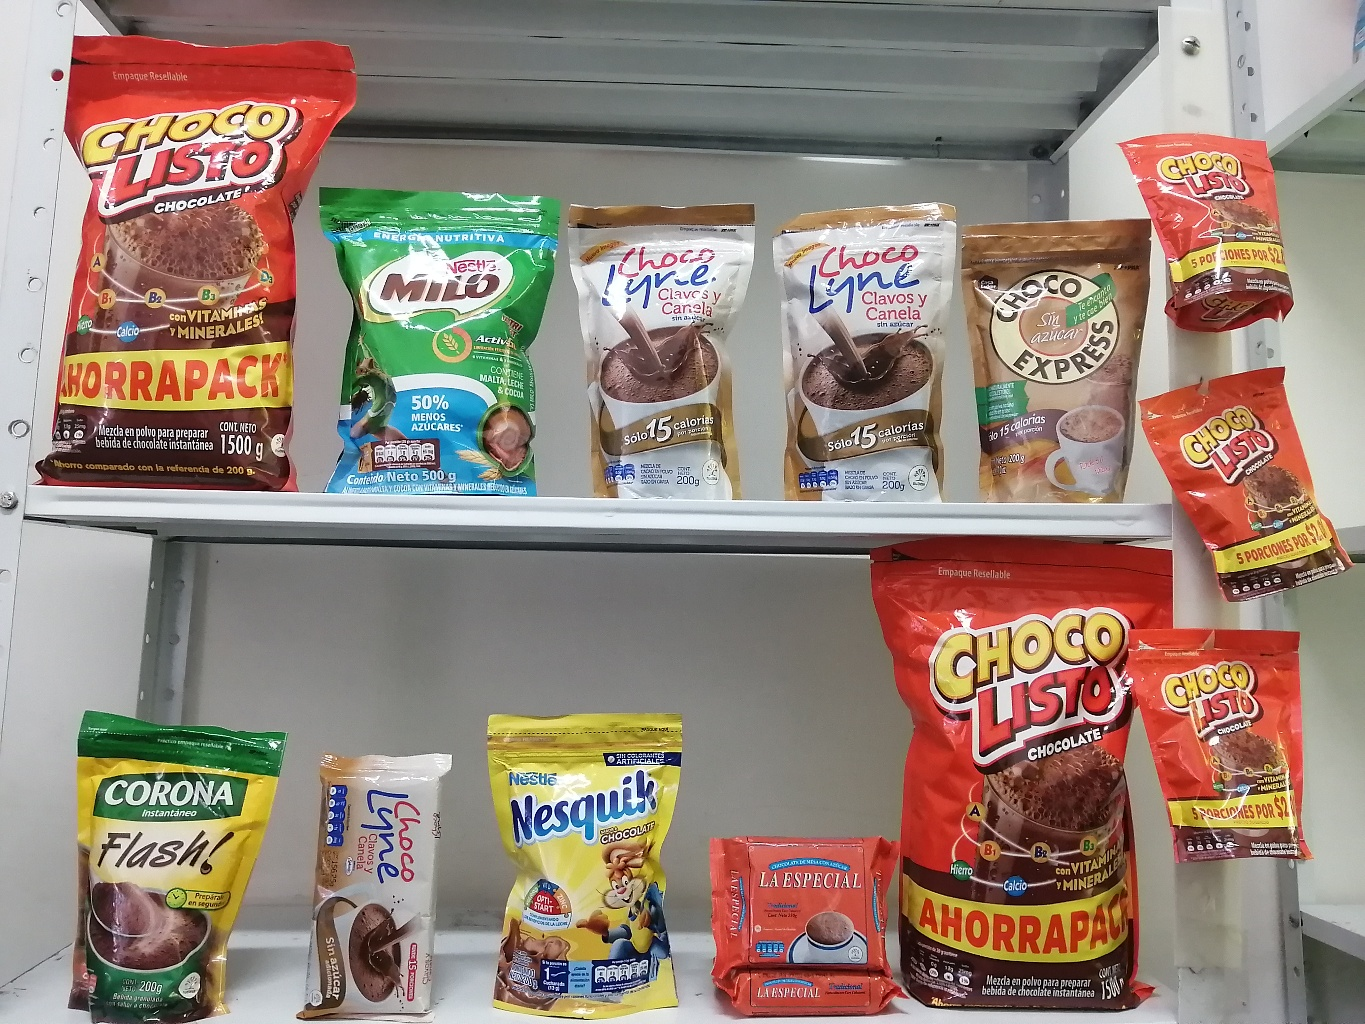COL0170303DYP20000: (483, 696, 696, 1015)
